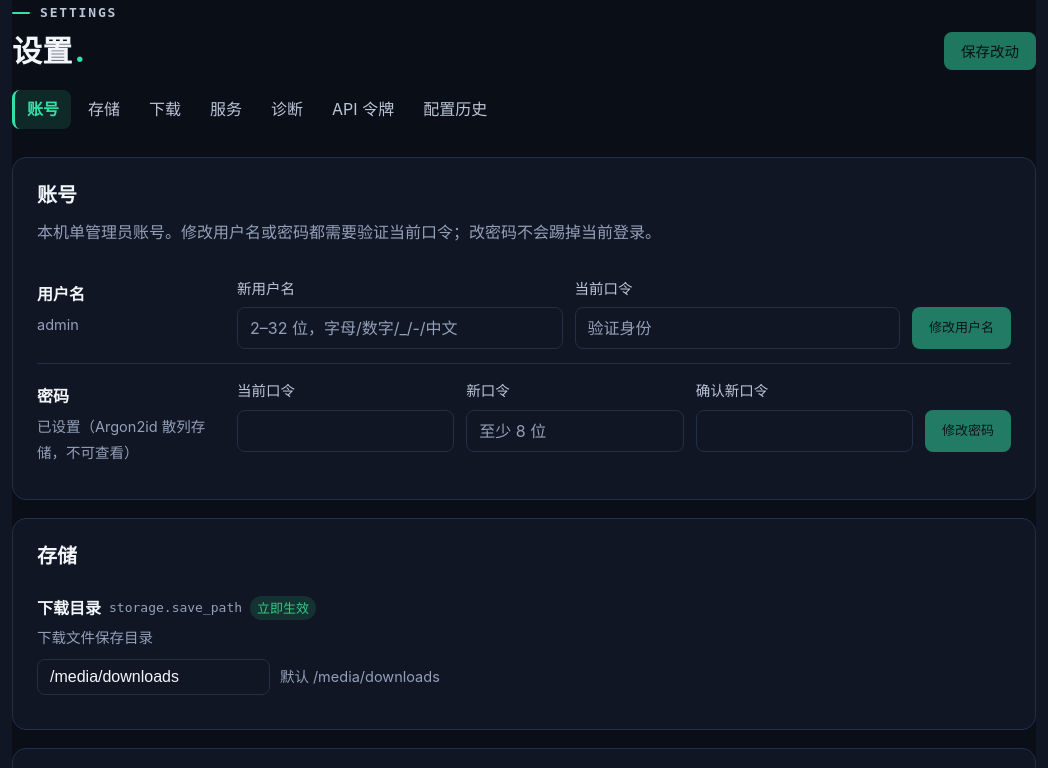
Settings 视图 › Settings 账号 › 改用户名成功：带当前口令调接口，成功后 store.user 同步（侧栏用户名跟着变）
Type "renamed" into the field labelled "新用户名" at (400, 328), box [237,307,562,349]
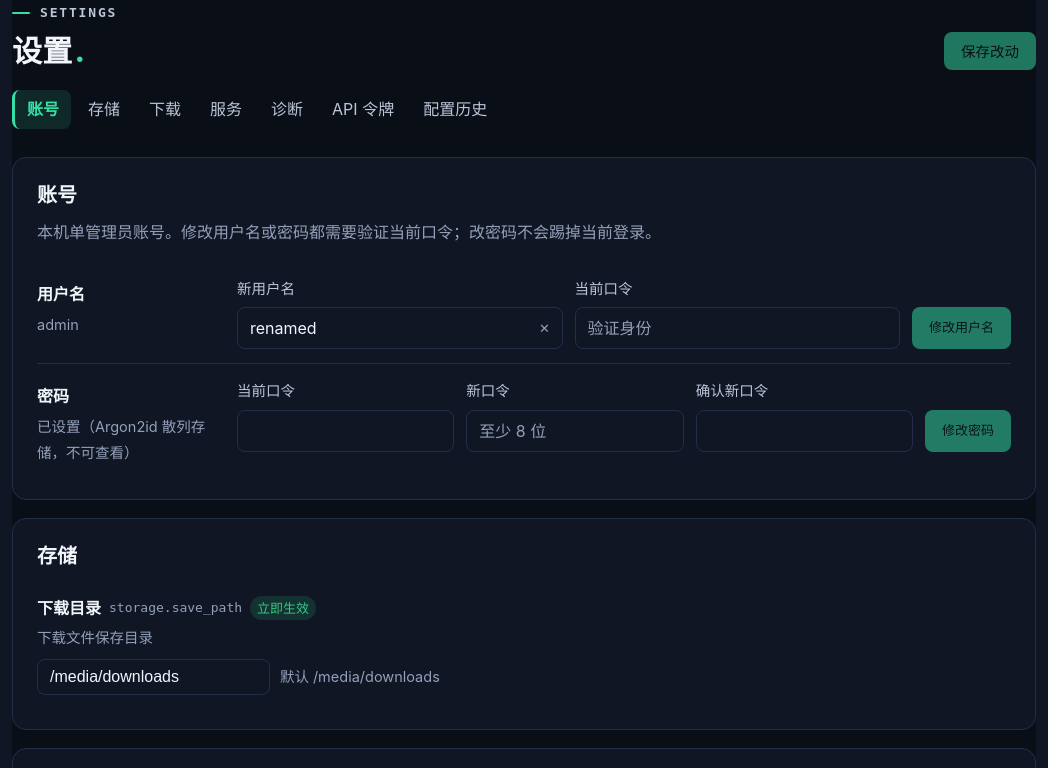
Type "Hlb27Xlh" into the password field labelled "当前口令" in the row of "admin" at (737, 328), box [574,307,900,349]
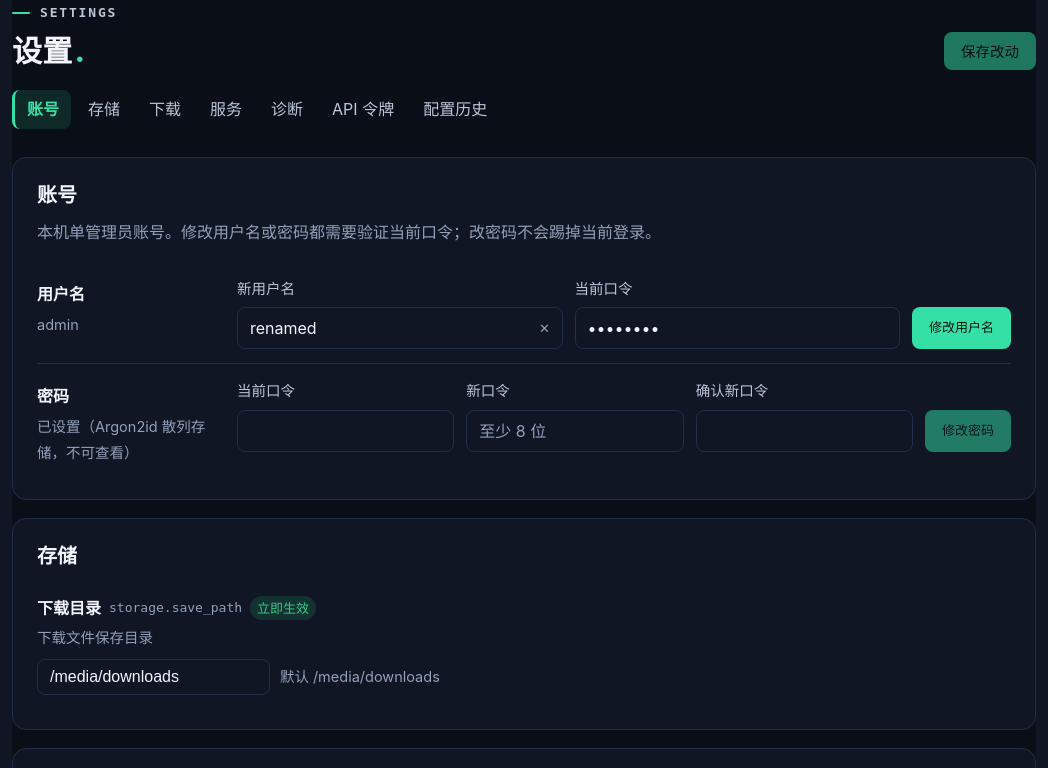
Click the button "修改用户名" at (962, 328), box [912,307,1011,349]
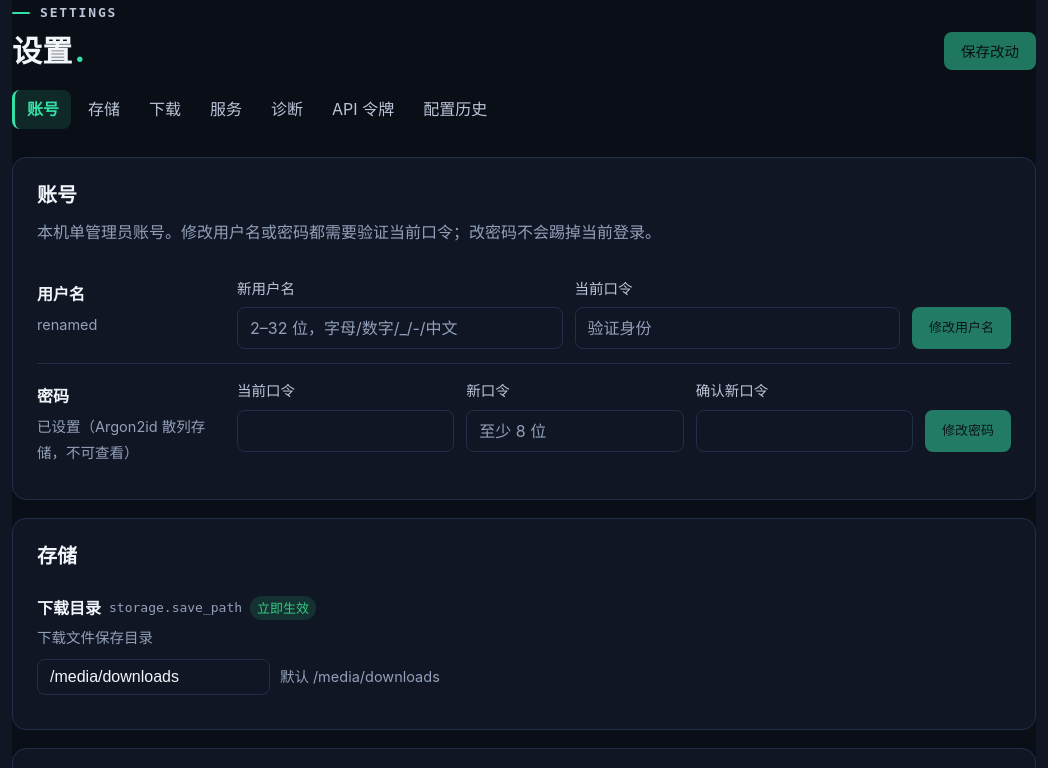
Expected: the text "renamed" is shown, [37,316,97,333]
Expected: the field labelled "新用户名" is empty, [237,307,562,349]
Expected: the password field labelled "当前口令" in the row of "renamed" is empty, [574,307,900,349]
